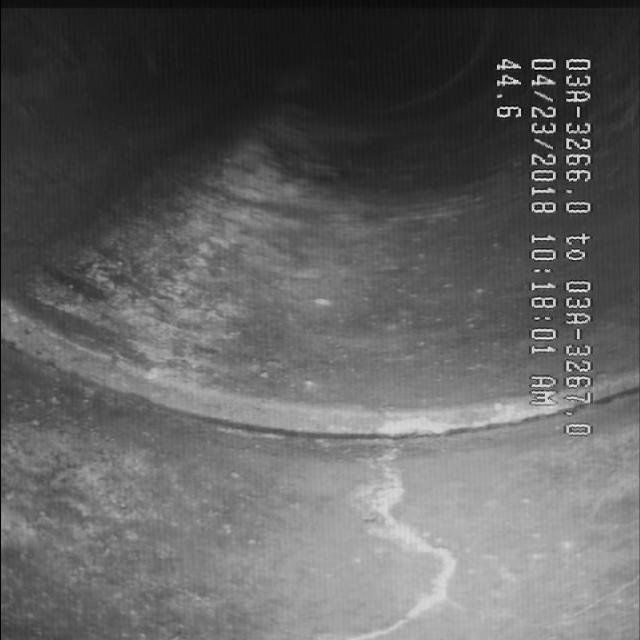Crack: (324, 454, 502, 606)
